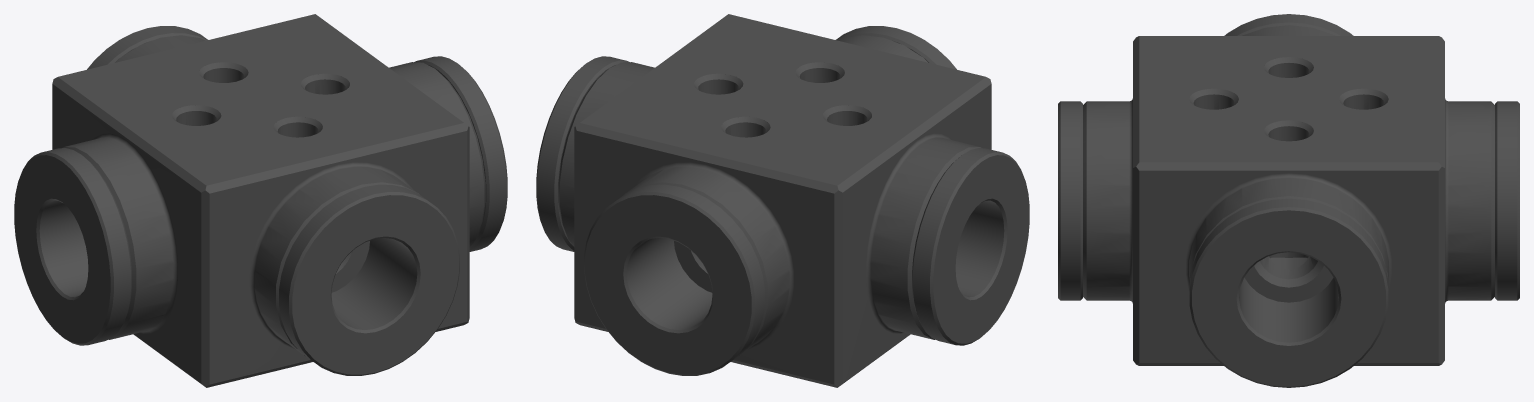
The model's file is link_right_ankle_y.glb.
3 renders of one model, left to right at view 1: azimuth 30°, elevation 25°; view 2: azimuth 150°, elevation 25°; view 3: azimuth 270°, elevation 25°, orthographic.
Parts seen in each view (by area): view 1: link_right_ankle_y; view 2: link_right_ankle_y; view 3: link_right_ankle_y.
Part boxes in pixels (left/top/right/bottom): link_right_ankle_y: left=14, top=14, right=507, bottom=387; link_right_ankle_y: left=536, top=14, right=1029, bottom=387; link_right_ankle_y: left=1058, top=14, right=1519, bottom=387.
Bounding box in the file's own units: 0.037 × 0.018 × 0.037.
1 material, 1 textured.
